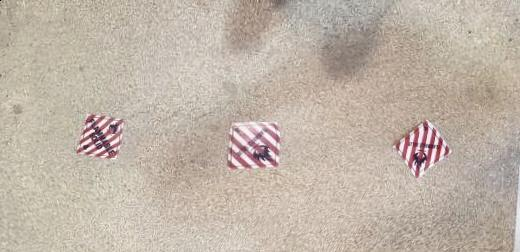flammable-solid: (386, 120, 455, 183), (226, 121, 282, 172), (75, 114, 123, 160)
